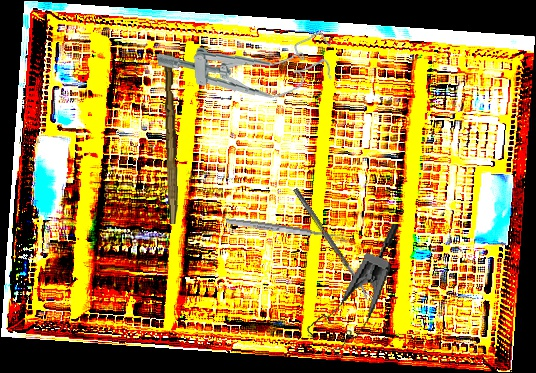Scalpel Handle: (160, 52, 183, 225)
Speculum: (301, 210, 402, 364), (156, 30, 334, 105)
Surgical Spoon: (292, 187, 373, 303), (225, 217, 347, 242)
